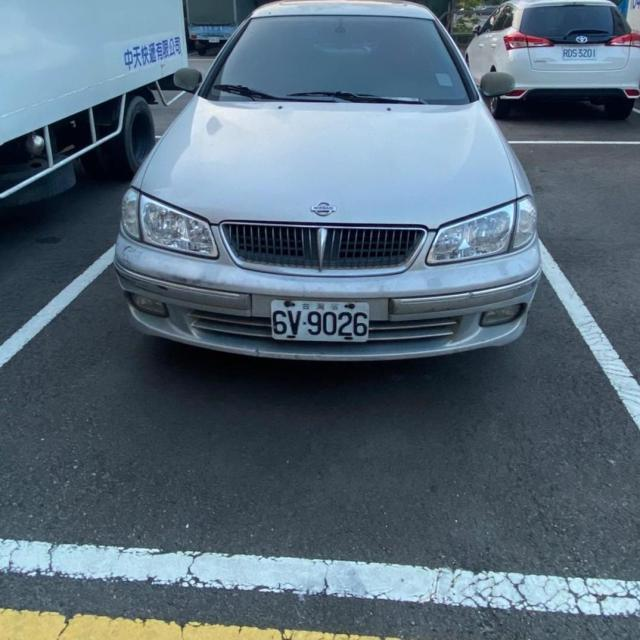W: (270, 299, 369, 342), (561, 44, 596, 60)
